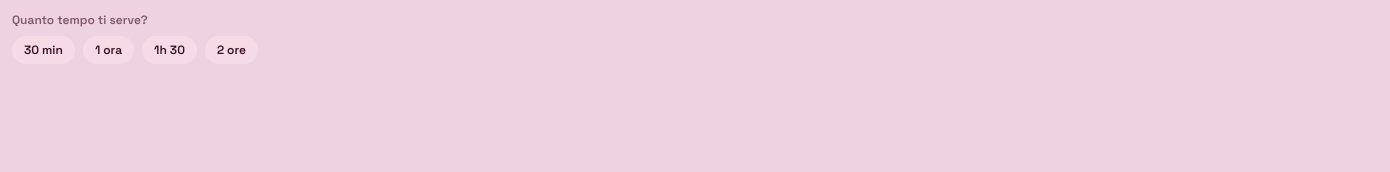
it: SlotSuggestions — step 2: risultati › esclude excludeEventId dagli eventi considerati (l'evento in modifica non conta come impegno contro se stesso)
This screenshot has width=1390, height=172.
Click the button "30 min" at (43, 50), box [12,36,75,64]
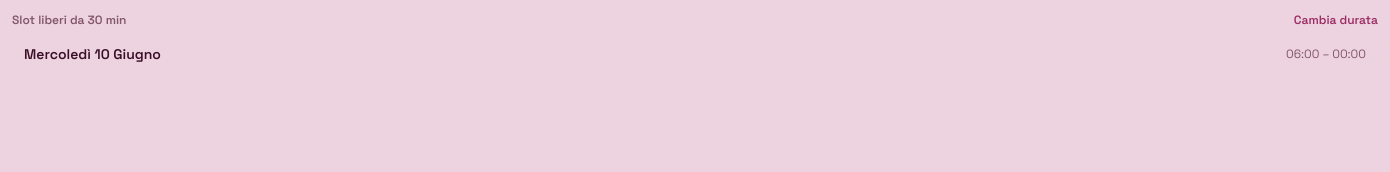
Expected: the text "06:00 – 00:00" is shown, [1286,46,1366,62]
